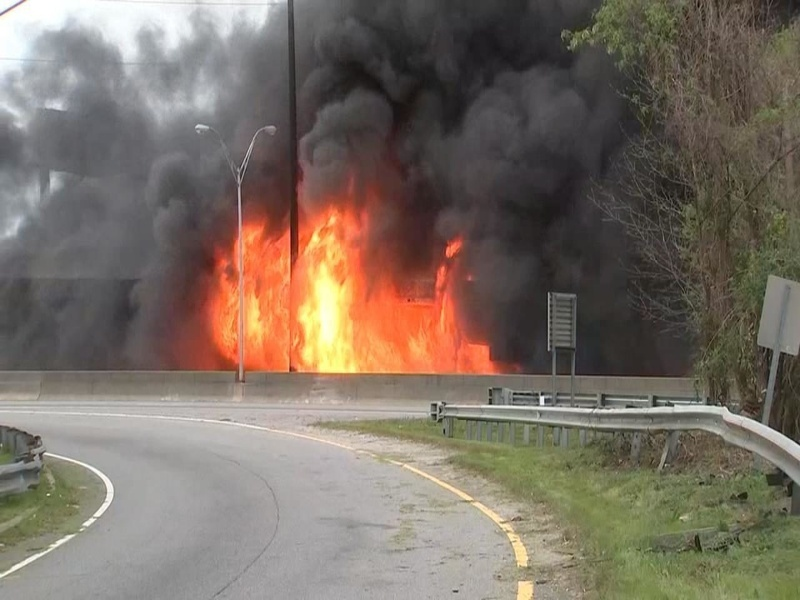smoke: (1, 1, 612, 263)
